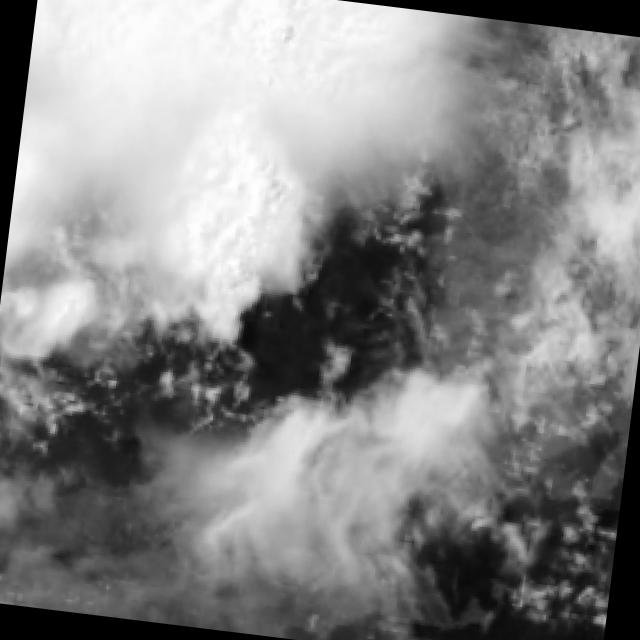CB: (17, 0, 330, 235)
